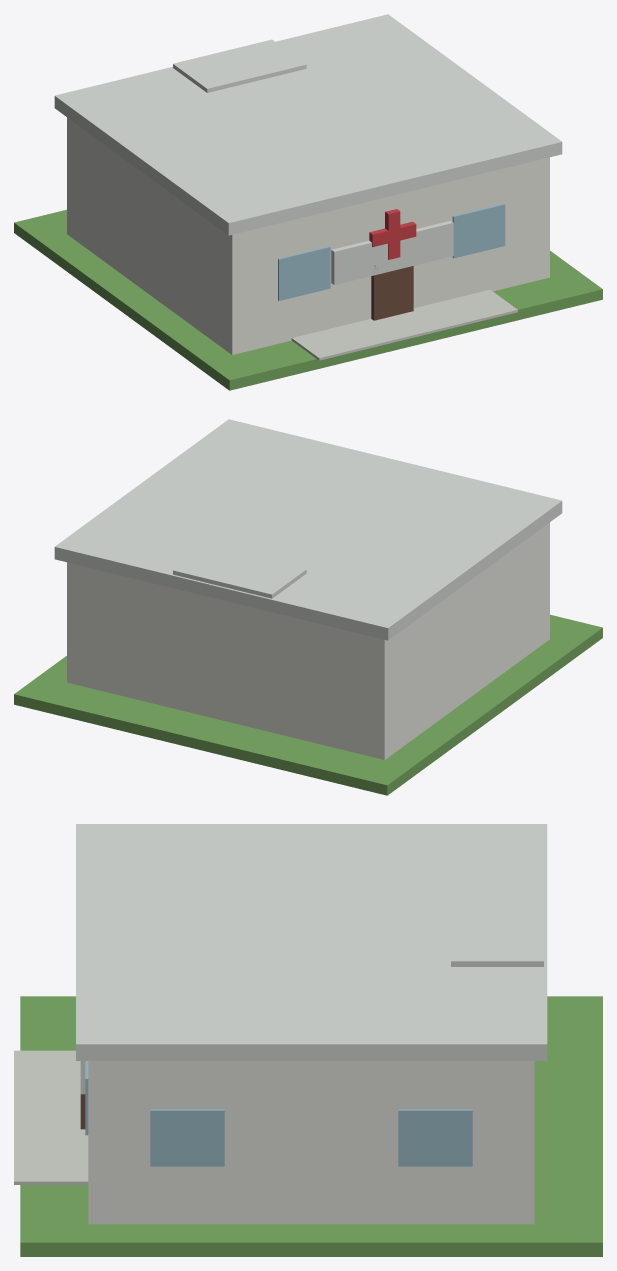
File: clinic.glb
3 views of the same model, one above another, from view 1: azimuth 30°, elevation 25°; view 2: azimuth 150°, elevation 25°; view 3: azimuth 270°, elevation 25° (orthographic). The views are drawn at different scales.
Parts seen in each view (by area): view 1: clinic; view 2: clinic; view 3: clinic.
Part boxes in pixels (x1=…): clinic: x1=14, y1=14, x2=602, y2=390; clinic: x1=14, y1=419, x2=602, y2=795; clinic: x1=14, y1=824, x2=602, y2=1256.
Bounding box in the file's own units: 1.88 × 0.73 × 1.9.
